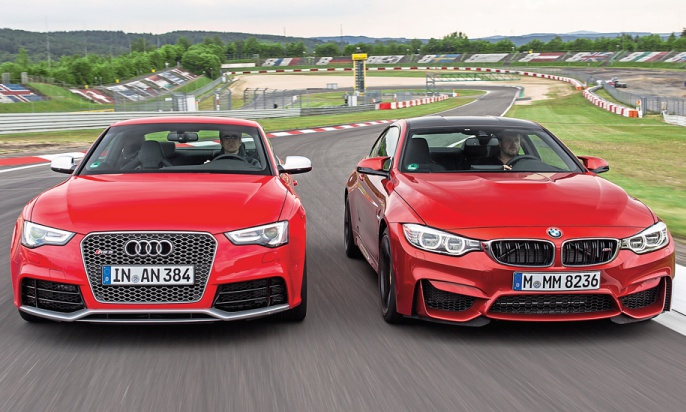audi: (118, 236, 182, 260)
